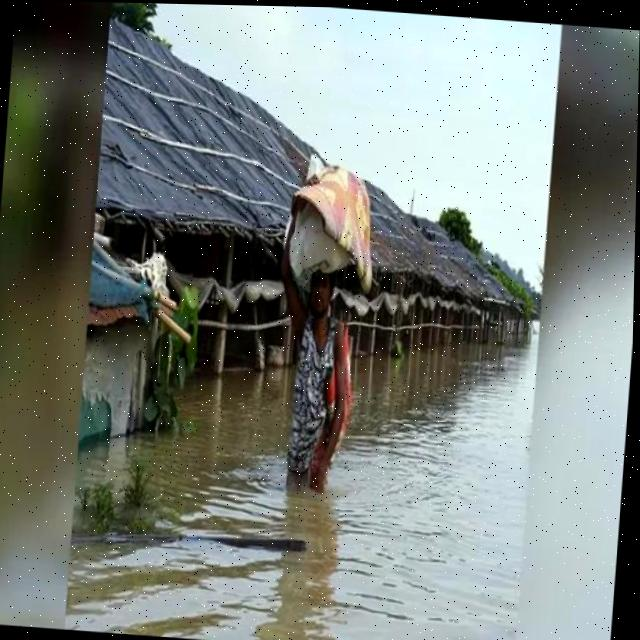civilian: (256, 183, 383, 522)
